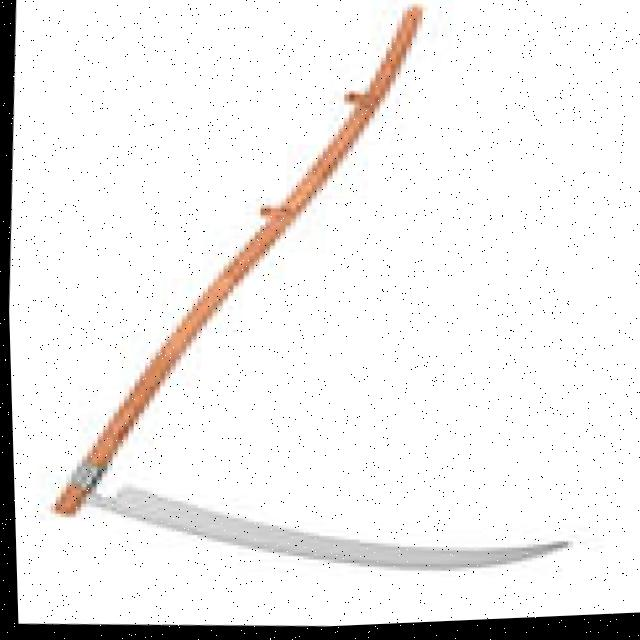sickle: (9, 0, 640, 620)
